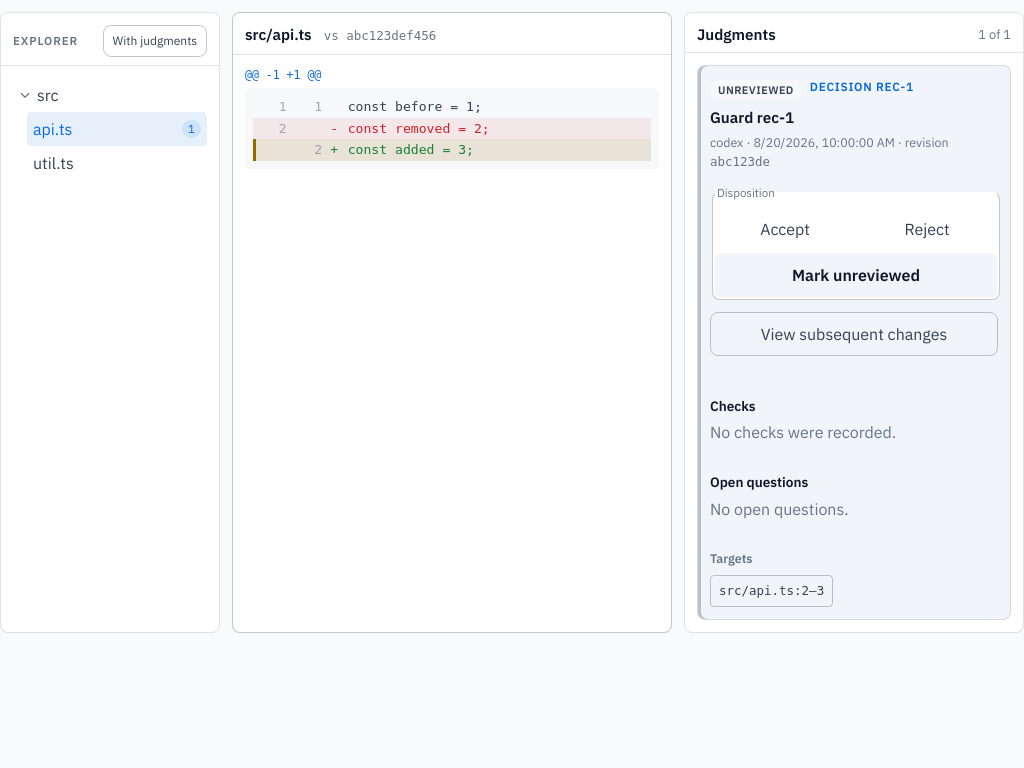
Test: Workspace › clears a repository block selection when a judgment transition is selected
Click the text "const removed = 2;": click(419, 128) [348,121,490,136]
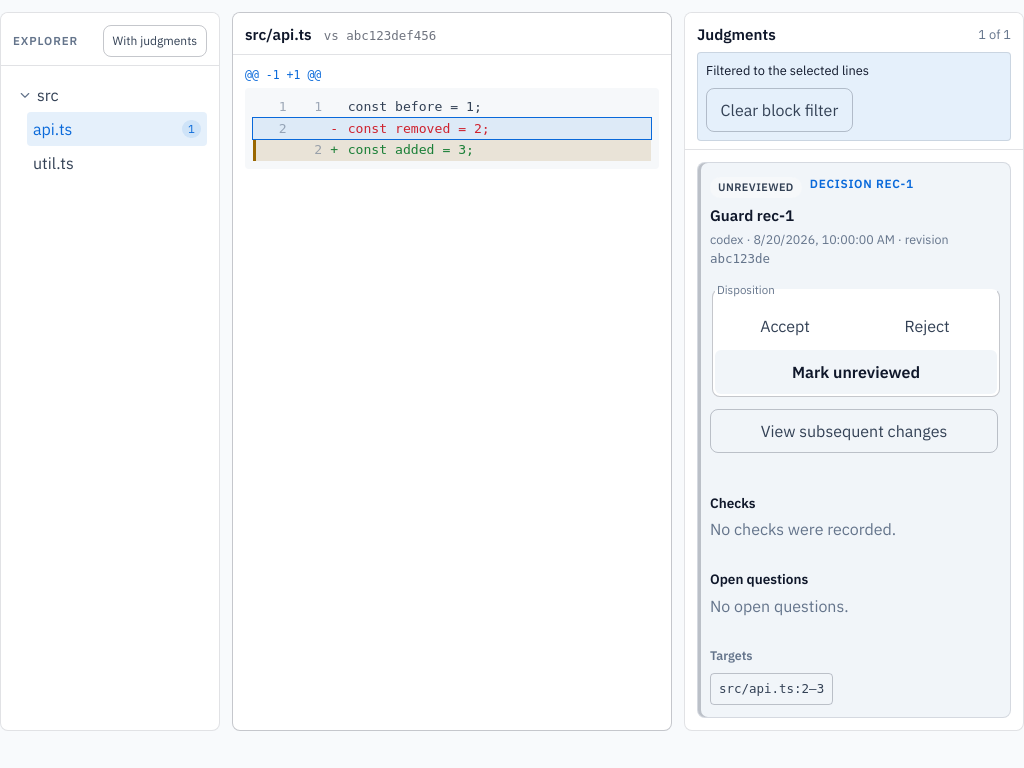
Result: the button "Clear block filter" is shown at [706,88,853,132]
